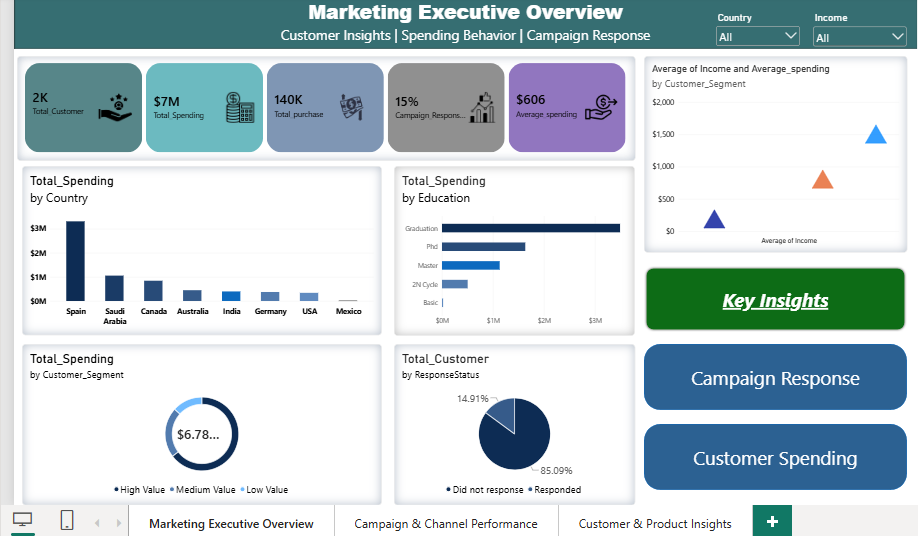

What the dashboard file says about the page in this screenshot:
{"tool":"powerbi","page":{"name":"Marketing Executive Overview","canvas":[1920,1080],"ordinal":0},"visuals":[{"type":"cardVisual","fields":{"Data":["marketing_data.Total_Customer","marketing_data.Total_Spending","marketing_data.Total_purchase","marketing_data.Campaign_Response_rate","marketing_data.Average_spending"]},"box":[6.2,125,1315,222.5],"z":0},{"type":"columnChart","fields":{"Category":["marketing_data.Country"],"Y":["marketing_data.Total_Spending"]},"box":[16.2,360,765,360],"z":1000},{"type":"clusteredBarChart","fields":{"Category":["marketing_data.Education"],"Y":["marketing_data.Total_Spending"]},"box":[807.9,359.3,512.4,361.4],"z":2000},{"type":"donutChart","fields":{"Category":["marketing_data.Customer_Segment"],"Y":["marketing_data.Total_Spending"]},"box":[16.2,737.5,765,342.5],"z":3000},{"type":"pieChart","fields":{"Category":["marketing_data.ResponseStatus"],"Y":["marketing_data.Total_Customer"]},"box":[808.8,737.5,512.5,342.5],"z":4000},{"type":"scatterChart","fields":{"Category":["marketing_data.Customer_Segment"],"X":["Avg(marketing_data. Income )"],"Y":["marketing_data.Average_spending"]},"box":[1339.4,125.4,560,417.5],"z":5000},{"type":"shape","title":"Marketing Executive Overview","box":[0,2.1,1920,107.5],"z":6000},{"type":"slicer","fields":{"Values":["marketing_data.Country"]},"box":[1488.2,31.9,187.1,136.1],"z":7000},{"type":"slicer","fields":{"Values":["marketing_data. Income "]},"box":[1694.4,31.9,208.3,78.7],"z":8000},{"type":"shape","box":[1339.4,737.7,559.1,140.3],"z":9000},{"type":"shape","box":[1339.4,907.8,559.1,140.3],"z":10000},{"type":"shape","box":[1339.4,571.9,559.1,140.3],"z":11000}]}

Visuals, with their boxes on the page's 1920x1080 design canvas (x1, y1, x2, y2). These are canvas units, not pixel positions in the 918x536 screenshot, which may show the page scaled, cropped or inside an application window:
cardVisual - marketing_data.Total_Customer x marketing_data.Total_Spending: BBox(6, 125, 1321, 348)
columnChart - marketing_data.Country x marketing_data.Total_Spending: BBox(16, 360, 781, 720)
clusteredBarChart - marketing_data.Education x marketing_data.Total_Spending: BBox(808, 359, 1320, 721)
donutChart - marketing_data.Customer_Segment x marketing_data.Total_Spending: BBox(16, 738, 781, 1080)
pieChart - marketing_data.ResponseStatus x marketing_data.Total_Customer: BBox(809, 738, 1321, 1080)
scatterChart - marketing_data.Customer_Segment x Avg(marketing_data. Income ): BBox(1339, 125, 1899, 543)
"Marketing Executive Overview" shape: BBox(0, 2, 1920, 110)
slicer - marketing_data.Country: BBox(1488, 32, 1675, 168)
slicer - marketing_data. Income : BBox(1694, 32, 1903, 111)
shape: BBox(1339, 738, 1898, 878)
shape: BBox(1339, 908, 1898, 1048)
shape: BBox(1339, 572, 1898, 712)
